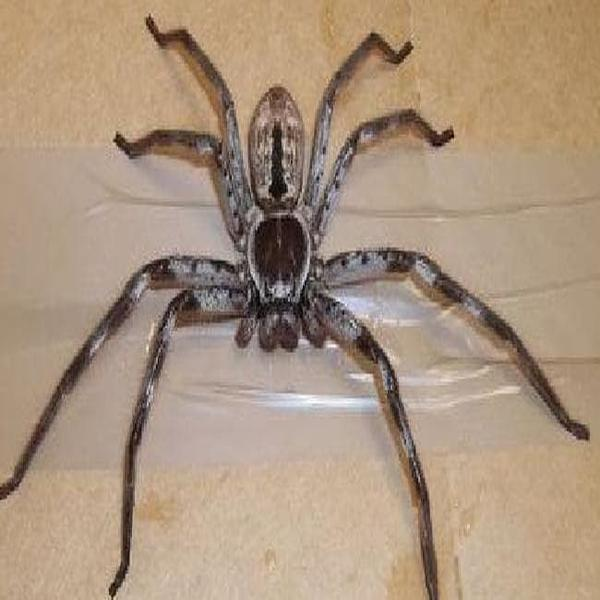Huntsman Spider: (25, 18, 586, 590)
